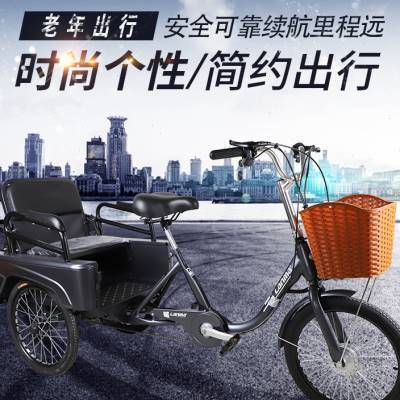empty: (5, 137, 400, 399)
